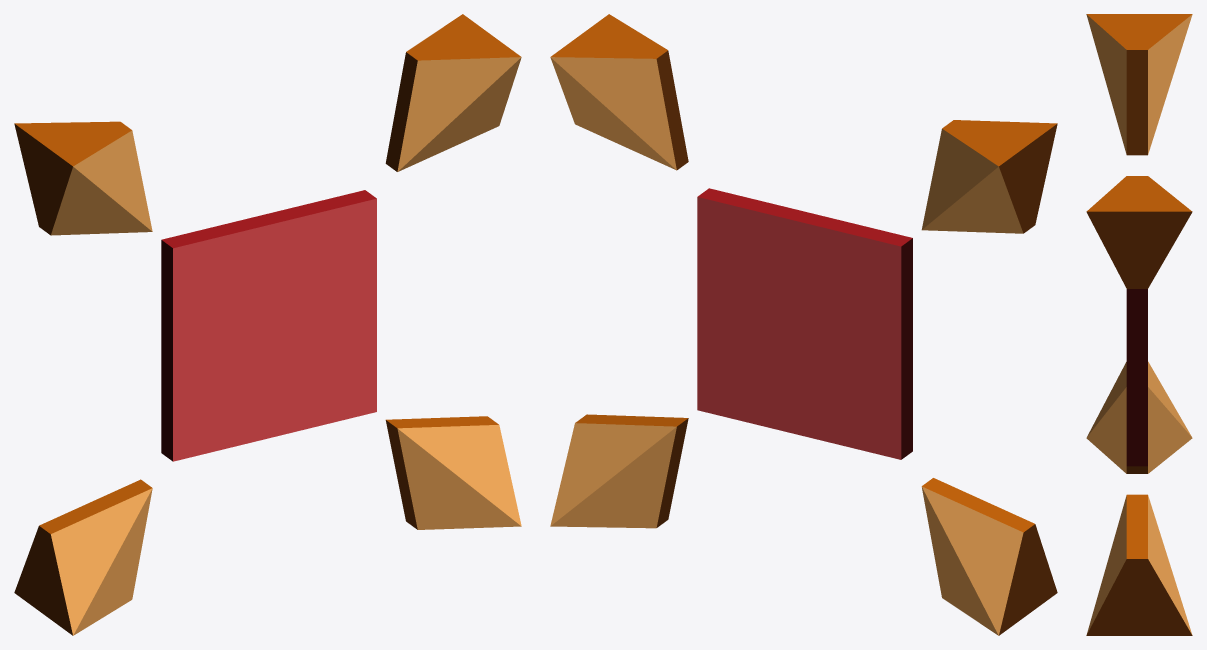
3 views of the same model, side by side, from view 1: azimuth 30°, elevation 25°; view 2: azimuth 150°, elevation 25°; view 3: azimuth 270°, elevation 25° (orthographic). The views are drawn at different scales.
Parts seen in each view (by area): view 1: ss3d_47_datalet; view 2: ss3d_47_datalet; view 3: ss3d_47_datalet.
Part boxes in pixels (x1,y1,x2,y2): ss3d_47_datalet: (14,14,521,635); ss3d_47_datalet: (550,14,1057,635); ss3d_47_datalet: (1086,14,1192,635).
Size of the model in its own units: 1.72 by 1.72 by 0.3906.
1 material, 1 textured.
